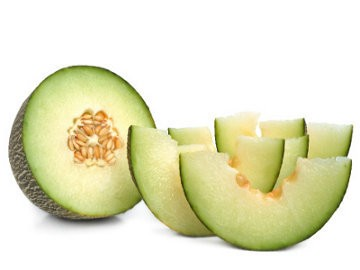Melon: (181, 153, 336, 243), (122, 128, 234, 234)
